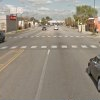crosswalk: (0, 44, 97, 49), (8, 35, 84, 38)
